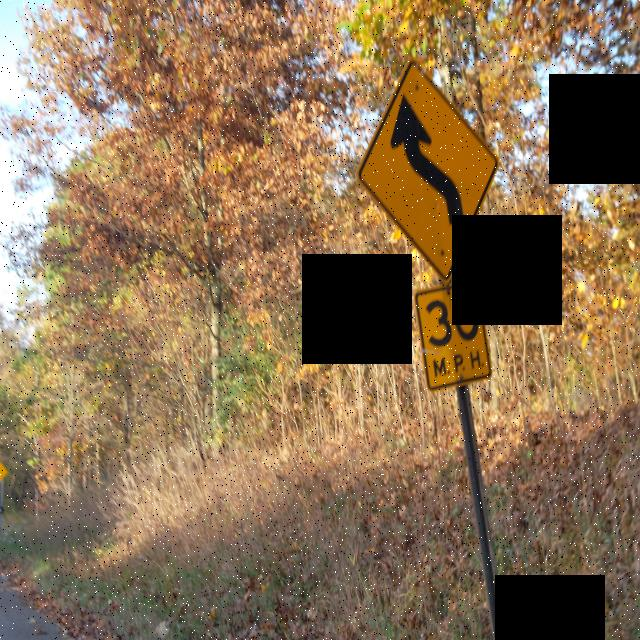regulatory: (406, 278, 498, 402)
warning: (356, 59, 501, 286)
